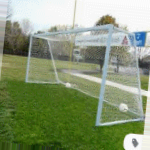goals: (25, 24, 145, 126)
